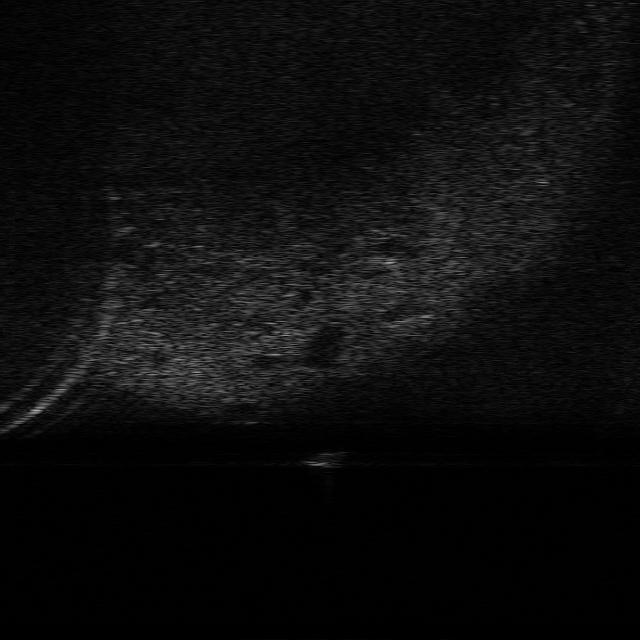cube: (298, 450, 344, 468)
